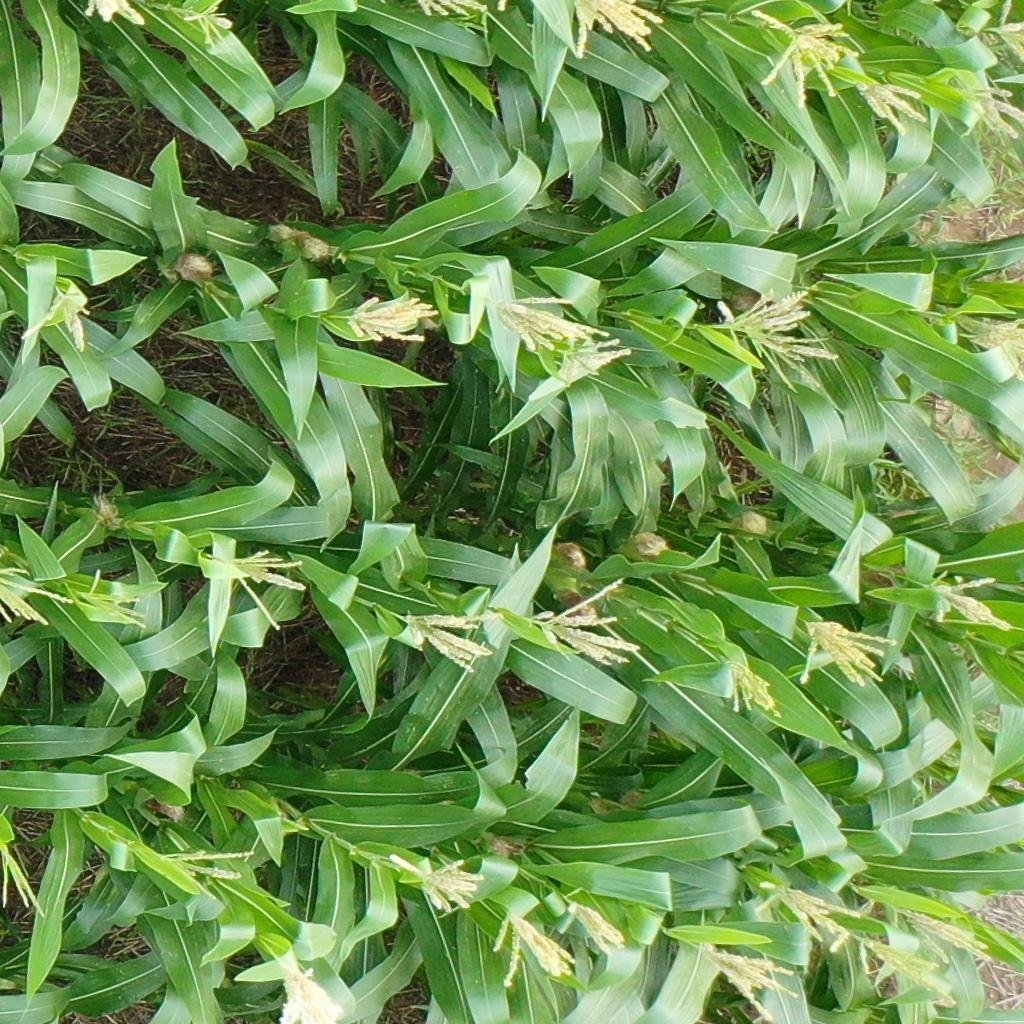Tassel: (717, 284, 843, 395), (752, 9, 863, 109), (526, 577, 643, 666), (698, 943, 800, 1020), (756, 880, 861, 949), (859, 936, 957, 1009), (797, 616, 899, 686), (400, 610, 507, 674), (491, 906, 576, 986), (489, 295, 610, 351), (223, 551, 306, 632), (897, 902, 997, 968), (389, 851, 486, 916), (572, 1, 665, 63), (345, 289, 445, 345), (20, 285, 94, 356), (160, 847, 252, 901), (926, 576, 1011, 633), (1, 564, 77, 627), (274, 961, 344, 1024), (81, 566, 150, 629), (857, 77, 927, 134), (1, 841, 52, 918), (957, 85, 1024, 141), (964, 316, 1024, 378), (568, 895, 629, 955), (727, 663, 786, 720), (559, 338, 632, 383), (184, 3, 234, 43), (989, 2, 1024, 58), (82, 1, 148, 26), (419, 1, 494, 20)
